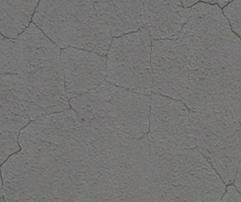fissura: (2, 1, 241, 198)
